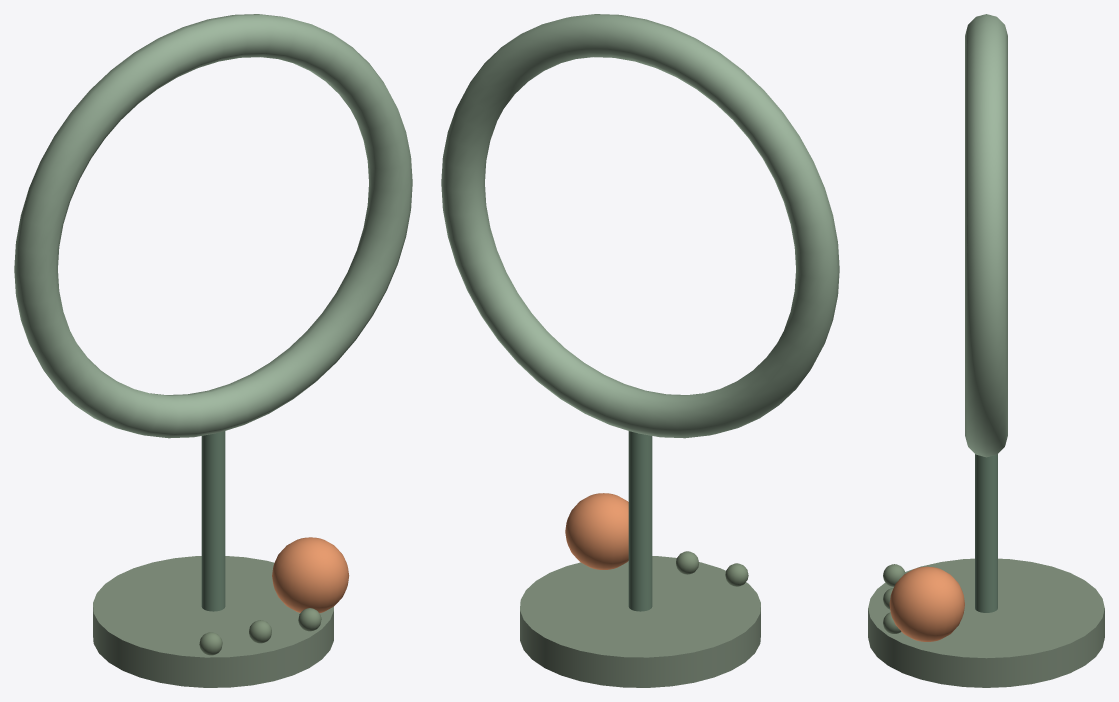
Rendered from toss-station.glb.
3 renders of one model, left to right at view 1: azimuth 30°, elevation 25°; view 2: azimuth 150°, elevation 25°; view 3: azimuth 270°, elevation 25°, orthographic. The views are drawn at different scales.
Parts seen in each view (by area): view 1: ring, base-throw, display-ball, stem; view 2: ring, base-throw, stem, display-ball; view 3: base-throw, ring, display-ball, stem.
Boxes of the visible parts, <box> form: ring: <box>14,14,412,438</box>; base-throw: <box>93,556,333,687</box>; display-ball: <box>272,537,349,613</box>; stem: <box>201,431,225,611</box>; ring: <box>441,14,839,438</box>; base-throw: <box>520,556,760,687</box>; stem: <box>628,431,652,611</box>; display-ball: <box>565,493,628,569</box>; base-throw: <box>868,558,1104,687</box>; ring: <box>965,14,1007,457</box>; display-ball: <box>889,566,964,641</box>; stem: <box>975,454,997,612</box>.
Size of the model in its own units: 1.35 by 2.03 by 0.72.
